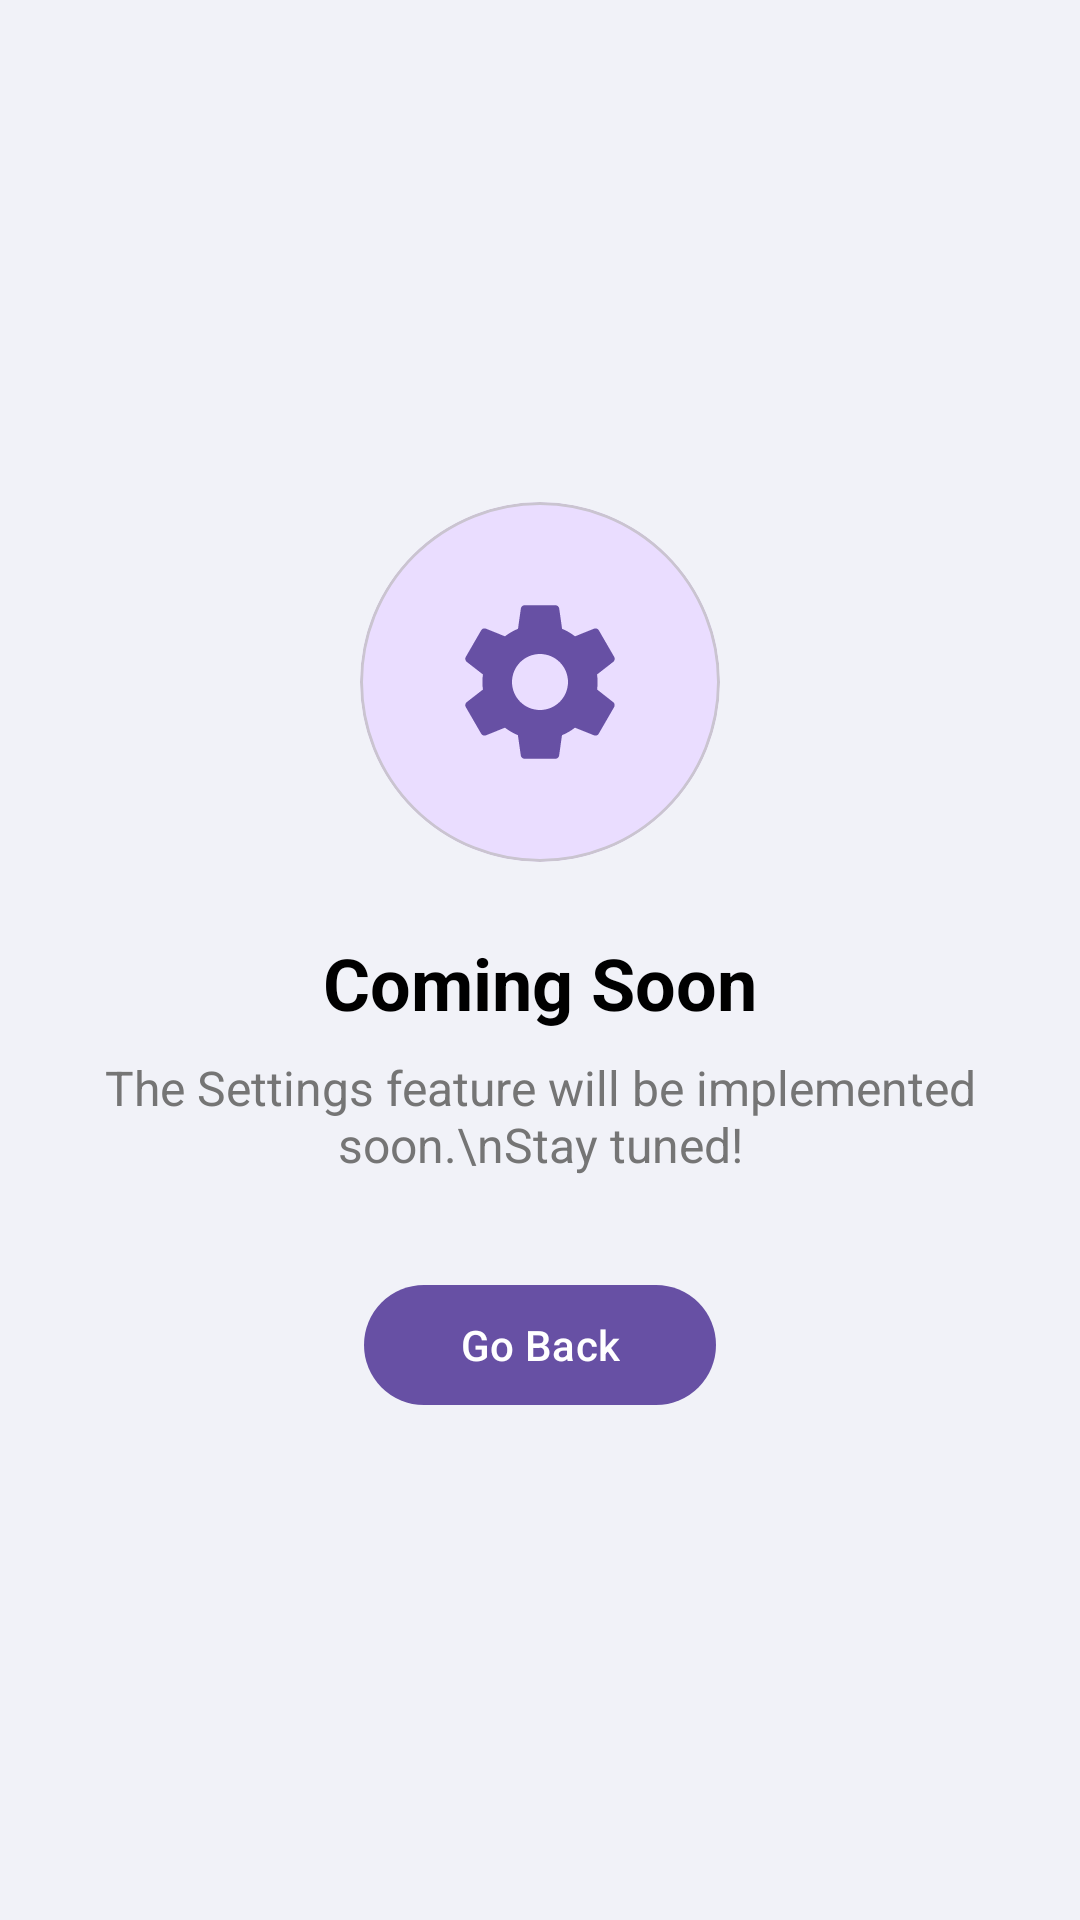

Icons on this 1080px x 1920px Android screen, each with the point to tap as point (x, y):
settings custom: point (540, 682)
